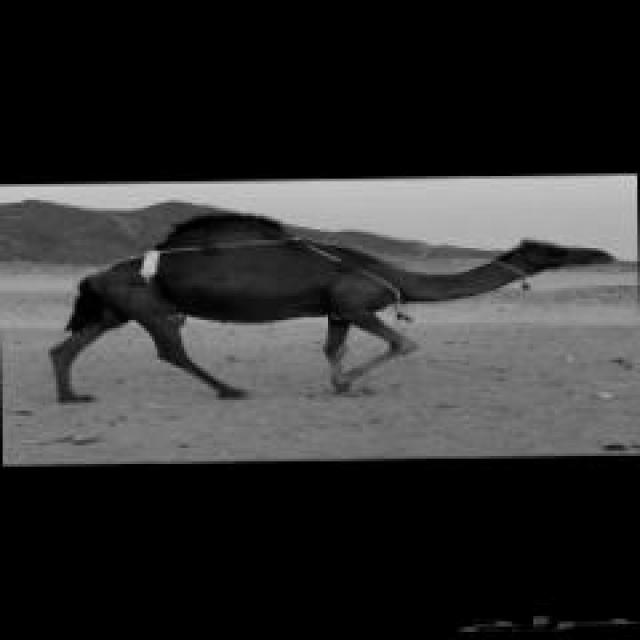Camel: (46, 210, 614, 402)
